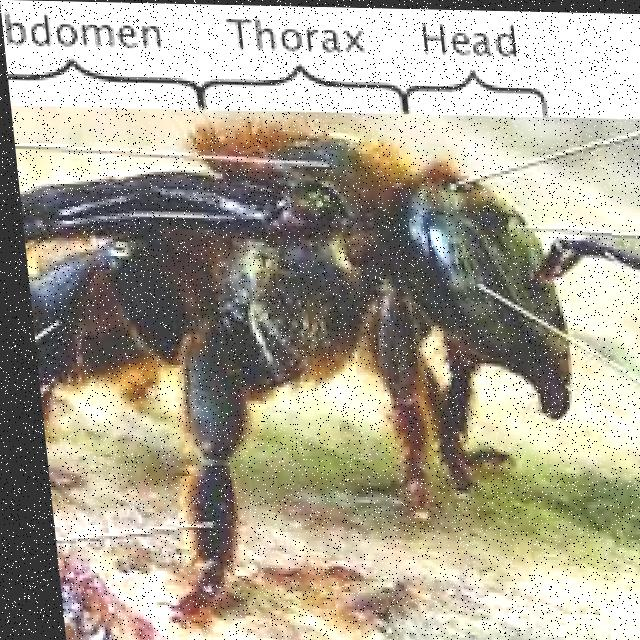Meliponula: (9, 108, 632, 542)
